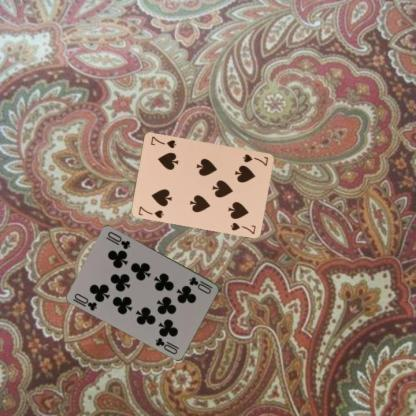10c: (186, 274, 214, 296), (71, 291, 98, 312)
7s: (240, 151, 270, 167), (136, 204, 166, 220)
